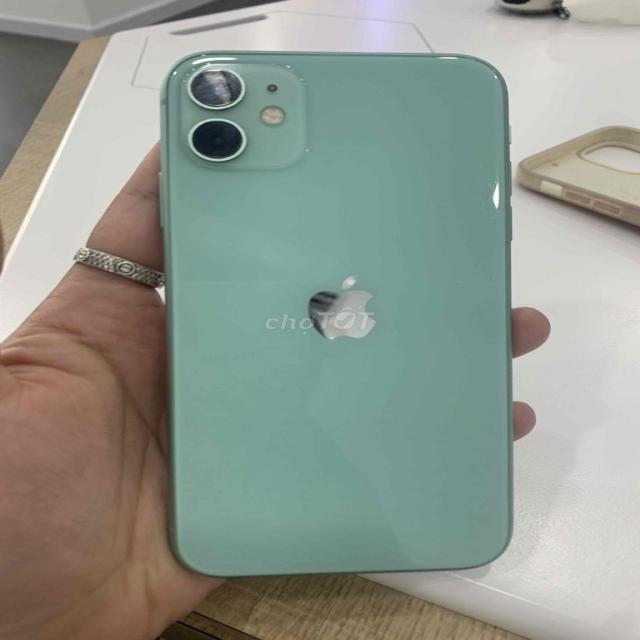gen_11: (147, 37, 521, 586)
